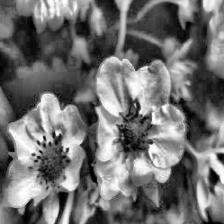Blossom Blight: (27, 131, 74, 193)
